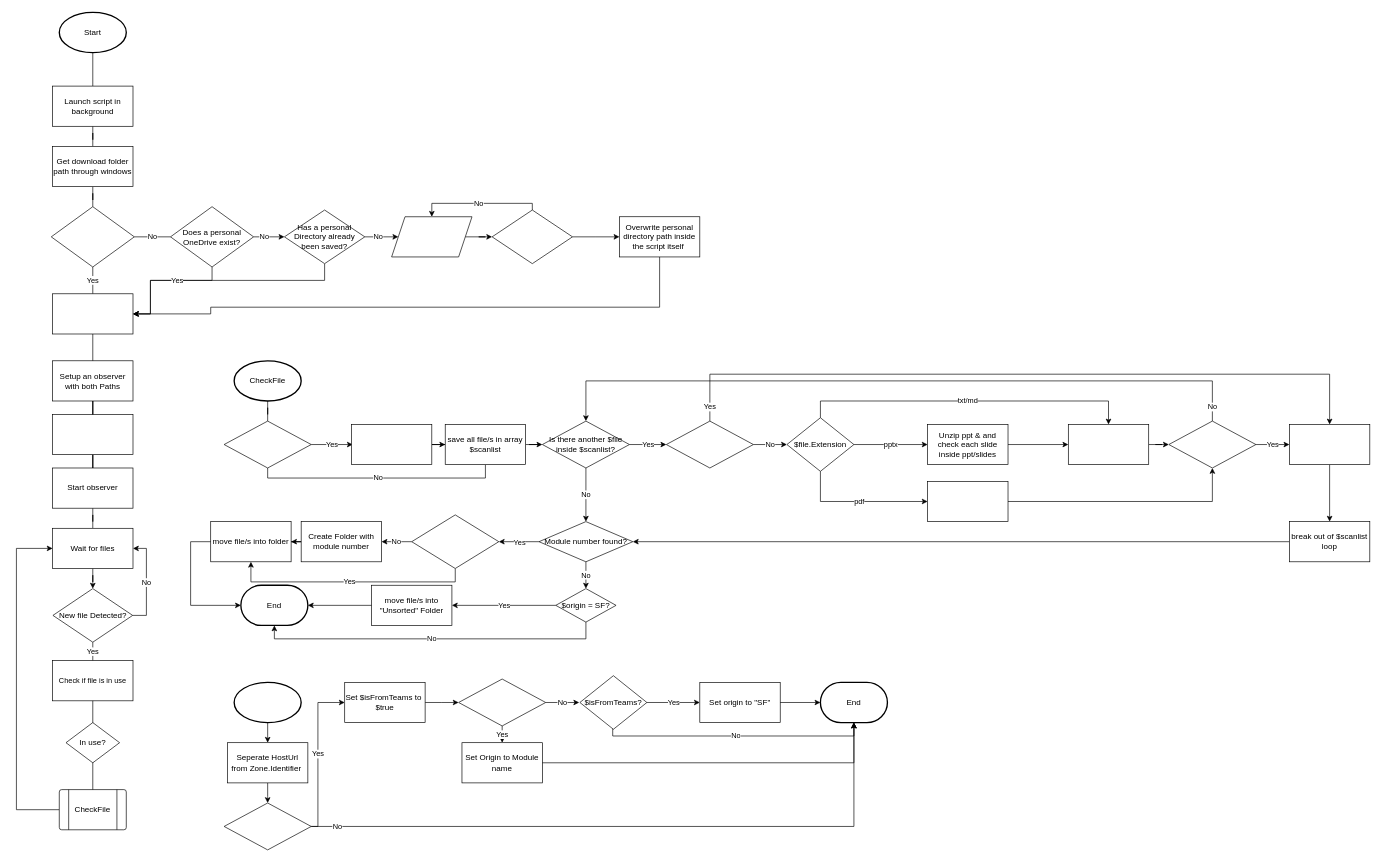
This 1382x862 diagram has some shape labels left out. Here are the shapes that lost their labels. From the top down, the centre of each, then its label:
point (92, 236): Does a commercial OneDrive exist?
point (431, 236): Ask for path through Windows popup
point (532, 236): Valid path?
point (92, 313): Save Path
point (92, 434): Connect watcher with dowonload path
point (267, 444): Is File zipped?
point (391, 444): Unzip
point (709, 444): Does any of filename match M/d{3}?
point (1108, 444): get text content
point (1212, 444): Does any of text content match M/d{3}?
point (1329, 444): $origin = Module number
point (967, 501): use PDFReader to get text content
point (455, 541): does a folder with module number exist?
point (267, 702): CheckOrigin
point (502, 702): Does any of URL match M/d{3}?
point (267, 826): Does URL match Teams URL?
